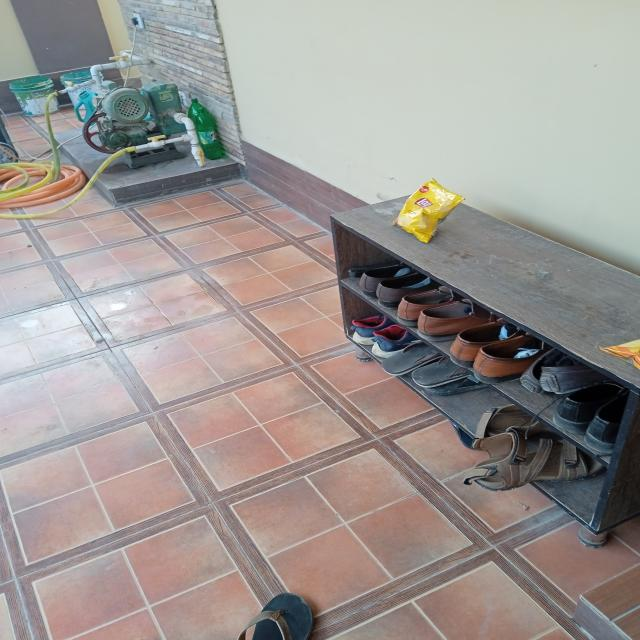Plastic: (392, 175, 468, 252)
